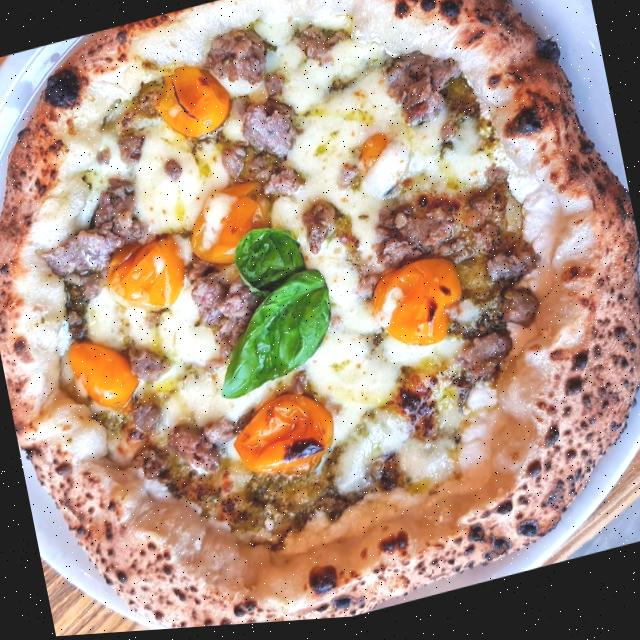basil: (192, 214, 346, 405)
pizza: (0, 0, 640, 640)
tomatoes: (228, 383, 342, 499), (362, 252, 472, 368), (176, 178, 278, 280), (101, 224, 197, 327), (148, 51, 238, 155), (66, 327, 148, 427)
